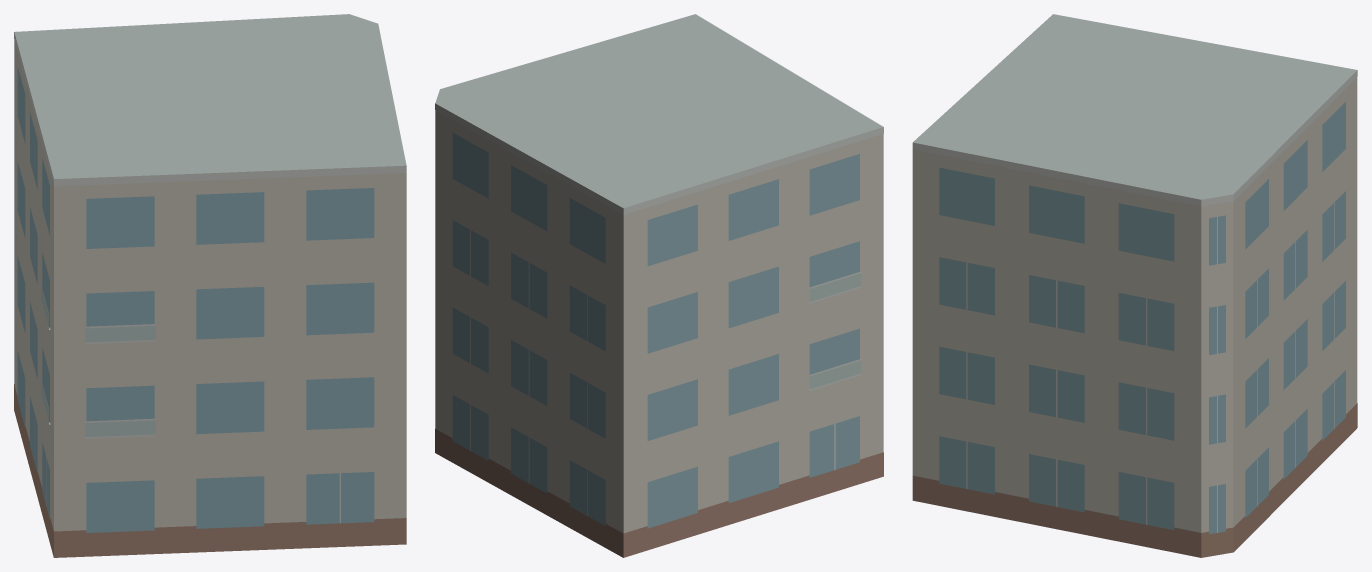
The model's file is survey-upis-32669272.glb.
3 renders of one model, left to right at view 1: azimuth 30°, elevation 25°; view 2: azimuth 150°, elevation 25°; view 3: azimuth 270°, elevation 25°, orthographic. The views are drawn at different scales.
Parts seen in each view (by area): view 1: survey-upis-32669272.tmp; view 2: survey-upis-32669272.tmp; view 3: survey-upis-32669272.tmp.
Part boxes in pixels (x1,y1,x2,y2): survey-upis-32669272.tmp: (14, 14, 406, 557); survey-upis-32669272.tmp: (435, 14, 883, 557); survey-upis-32669272.tmp: (912, 14, 1357, 557).
Bounding box in the file's own units: 14.25 × 12.8 × 14.42.
